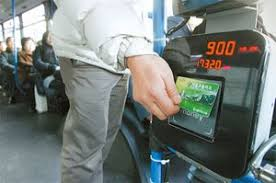terminal: (151, 31, 274, 179)
